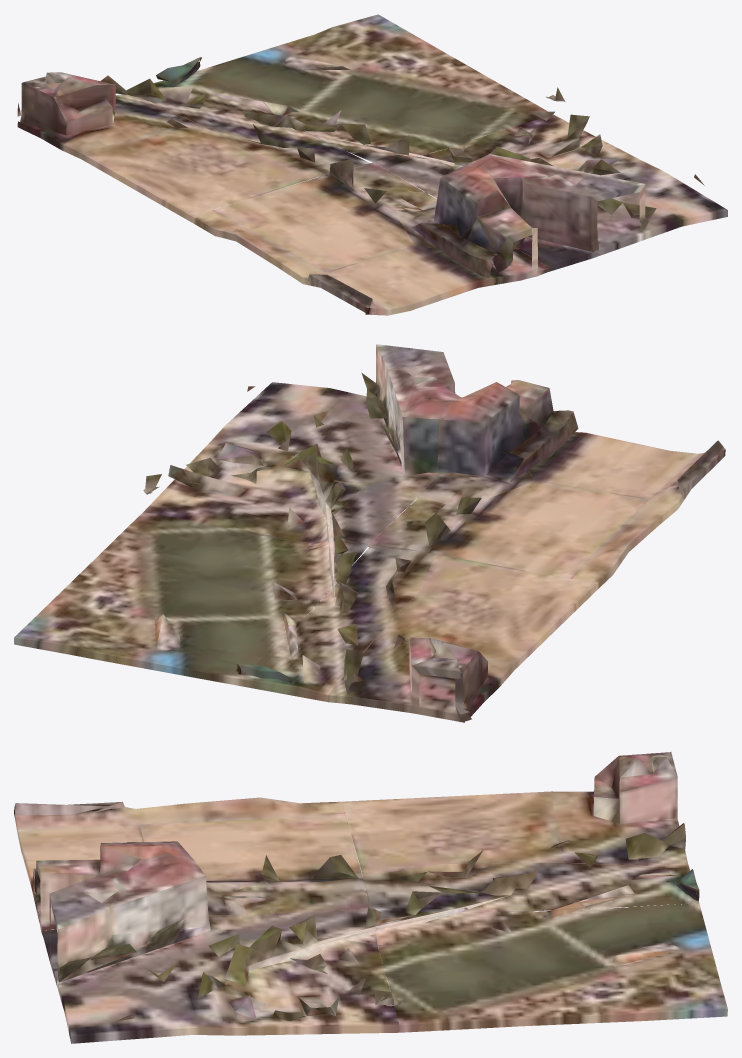
The picture shows the model from 3 angles, top to bottom: view 1: azimuth 30°, elevation 25°; view 2: azimuth 150°, elevation 25°; view 3: azimuth 270°, elevation 25°; orthographic projection. The views are drawn at different scales.
Visible parts, largest first — view 1: Mesh_0; view 2: Mesh_0; view 3: Mesh_0.
Boxes of the visible parts, bbox=[...] form: Mesh_0: bbox=[17, 14, 727, 315]; Mesh_0: bbox=[14, 344, 725, 722]; Mesh_0: bbox=[14, 752, 727, 1043].
Bounding box in the file's own units: 269 × 42.41 × 330.
1 material, 1 textured.
